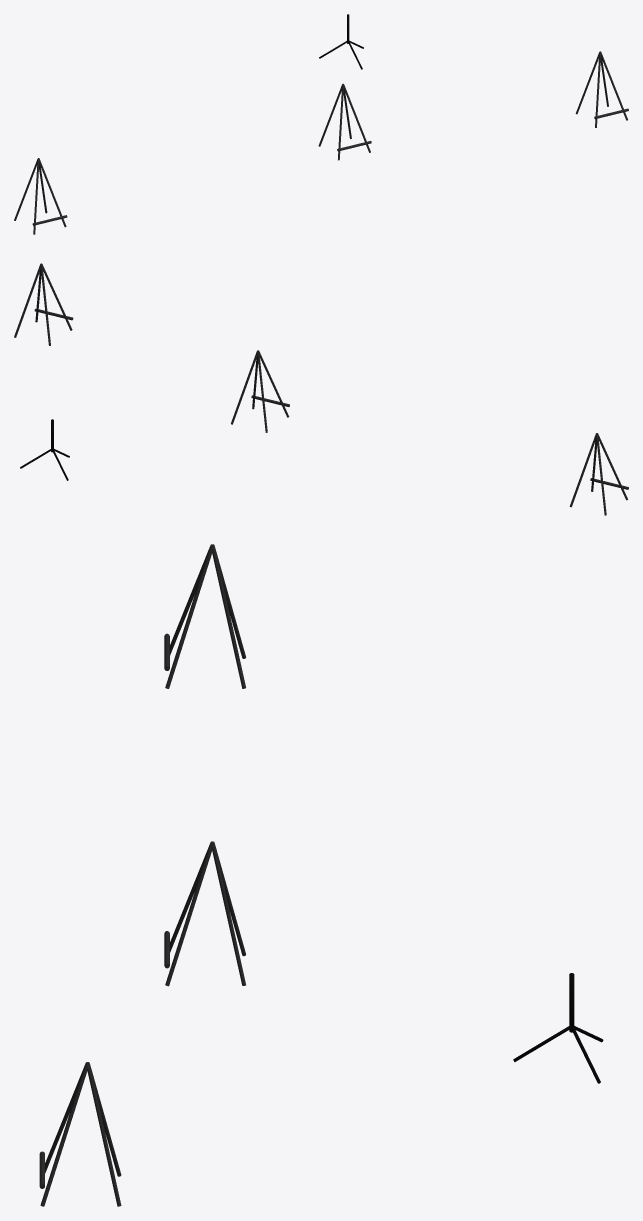
The model's file is stands.glb.
3 views of the same model, one above another, from view 1: azimuth 30°, elevation 25°; view 2: azimuth 150°, elevation 25°; view 3: azimuth 270°, elevation 25° (orthographic). The views are drawn at different scales.
Parts seen in each view (by area): view 1: stands.001; view 2: stands.001; view 3: stands.001.
Part boxes in pixels (<box>): stands.001: <box>14,14,628,234</box>; stands.001: <box>14,263,628,515</box>; stands.001: <box>39,544,603,1206</box>.
Bounding box in the file's own units: 5.74 × 0.6268 × 2.48.
1 material, 1 textured.
